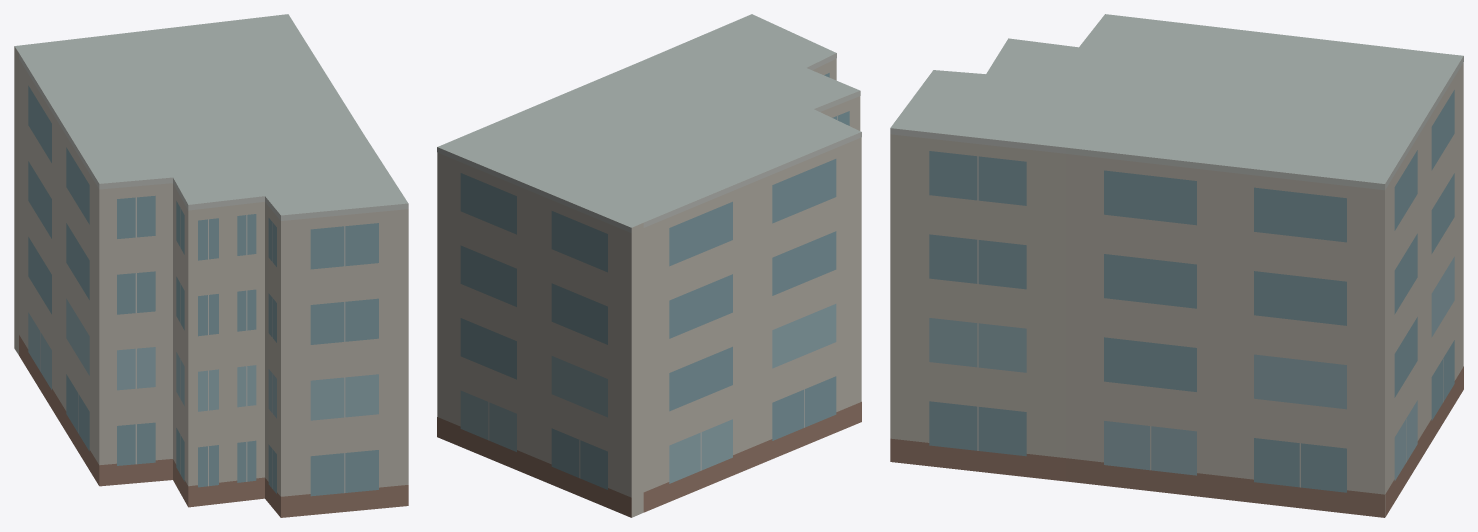
The model's file is survey-upis-32819244.glb.
3 renders of one model, left to right at view 1: azimuth 30°, elevation 25°; view 2: azimuth 150°, elevation 25°; view 3: azimuth 270°, elevation 25°, orthographic. The views are drawn at different scales.
Parts seen in each view (by area): view 1: survey-upis-32819244.tmp; view 2: survey-upis-32819244.tmp; view 3: survey-upis-32819244.tmp.
Part boxes in pixels (x1,y1,x2,y2): survey-upis-32819244.tmp: (14, 14, 408, 517); survey-upis-32819244.tmp: (437, 14, 861, 517); survey-upis-32819244.tmp: (890, 14, 1463, 517).
Bounding box in the file's own units: 14.33 × 13.1 × 20.41.
